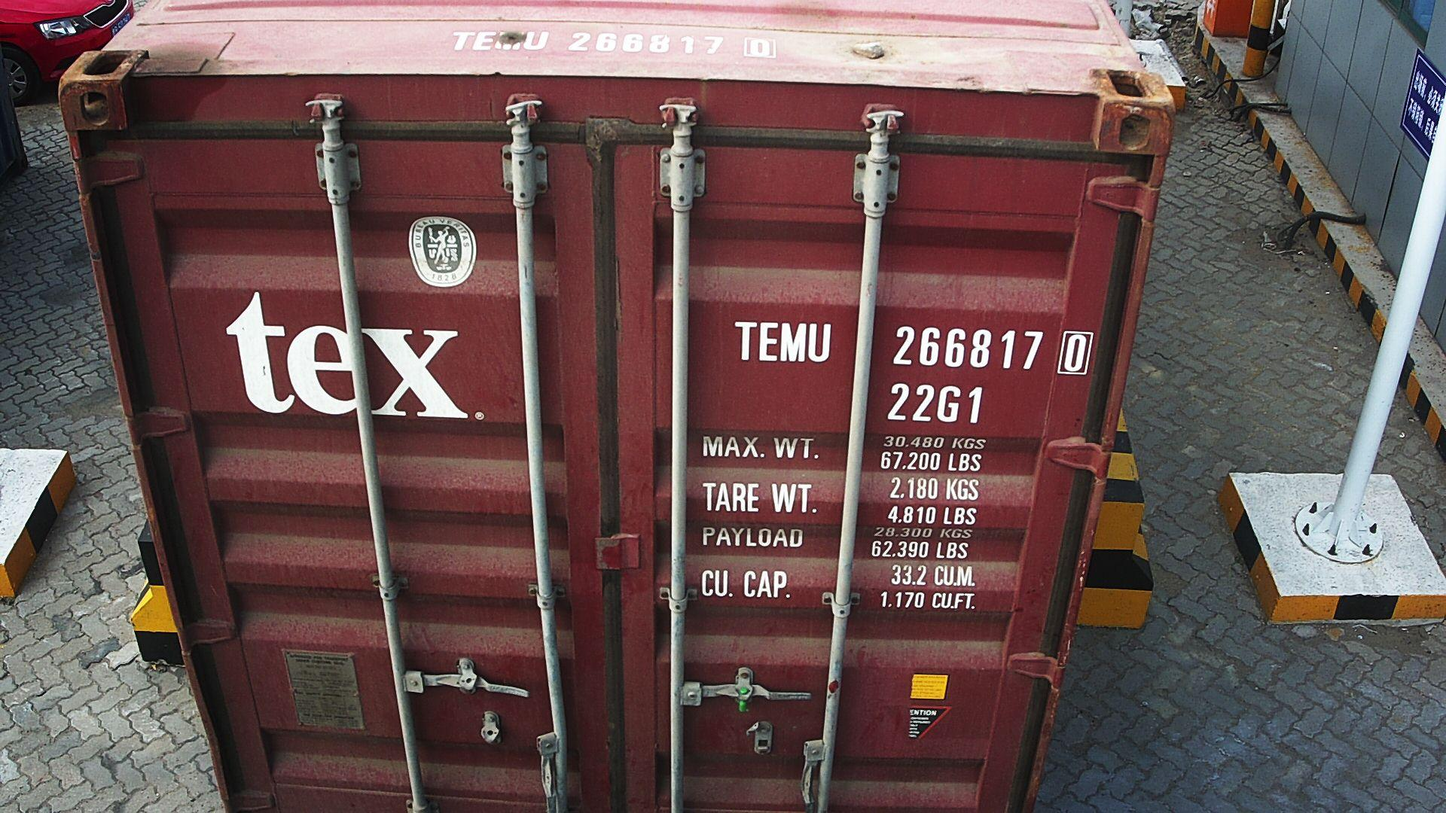container-numbers: (732, 318, 1096, 377), (442, 28, 784, 60), (883, 381, 985, 426)
